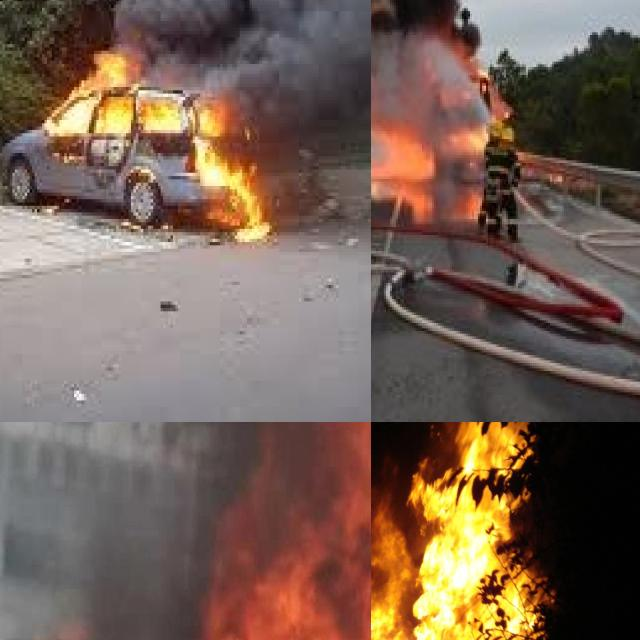fire: (157, 422, 371, 640), (371, 422, 568, 640), (166, 77, 286, 252), (371, 43, 486, 197), (40, 28, 156, 143), (19, 616, 93, 640)
smoke: (118, 0, 371, 120), (95, 422, 215, 640)
